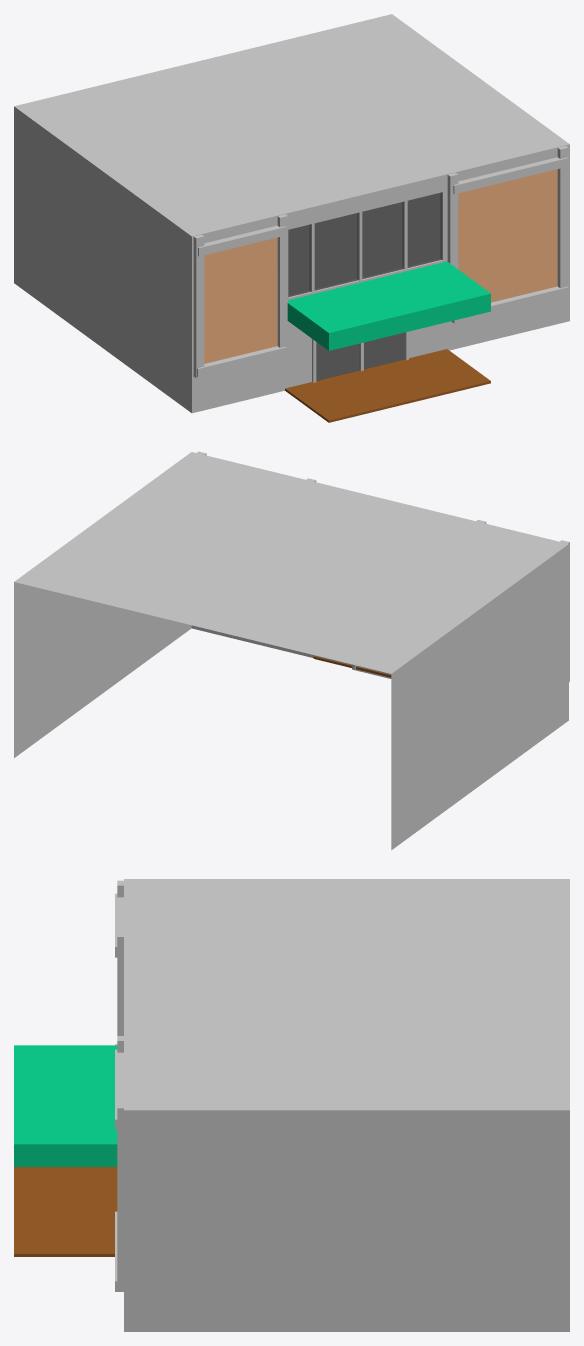
File: edificio 3.fbx
The picture shows the model from 3 angles, top to bottom: view 1: azimuth 30°, elevation 25°; view 2: azimuth 150°, elevation 25°; view 3: azimuth 270°, elevation 25°; orthographic projection. The views are drawn at different scales.
Parts seen in each view (by area): view 1: BASE, Detalles, Ventanas y Puertas, Techo, Decorations, Suelo-base, Decorations-Ventana; view 2: BASE; view 3: BASE, Techo, Suelo-base, Decorations.
Part boxes in pixels (bbox=[...]): BASE: bbox=[14, 14, 569, 413]; Detalles: bbox=[204, 169, 557, 363]; Ventanas y Puertas: bbox=[288, 192, 441, 380]; Techo: bbox=[287, 261, 490, 350]; Decorations: bbox=[193, 146, 568, 378]; Suelo-base: bbox=[285, 349, 490, 422]; Decorations-Ventana: bbox=[309, 200, 408, 382]; BASE: bbox=[14, 452, 568, 850]; BASE: bbox=[124, 879, 569, 1331]; Techo: bbox=[14, 1045, 117, 1166]; Suelo-base: bbox=[14, 1167, 117, 1256]; Decorations: bbox=[115, 880, 123, 1291].
Size of the model in its own units: 991 by 444 by 1008.
